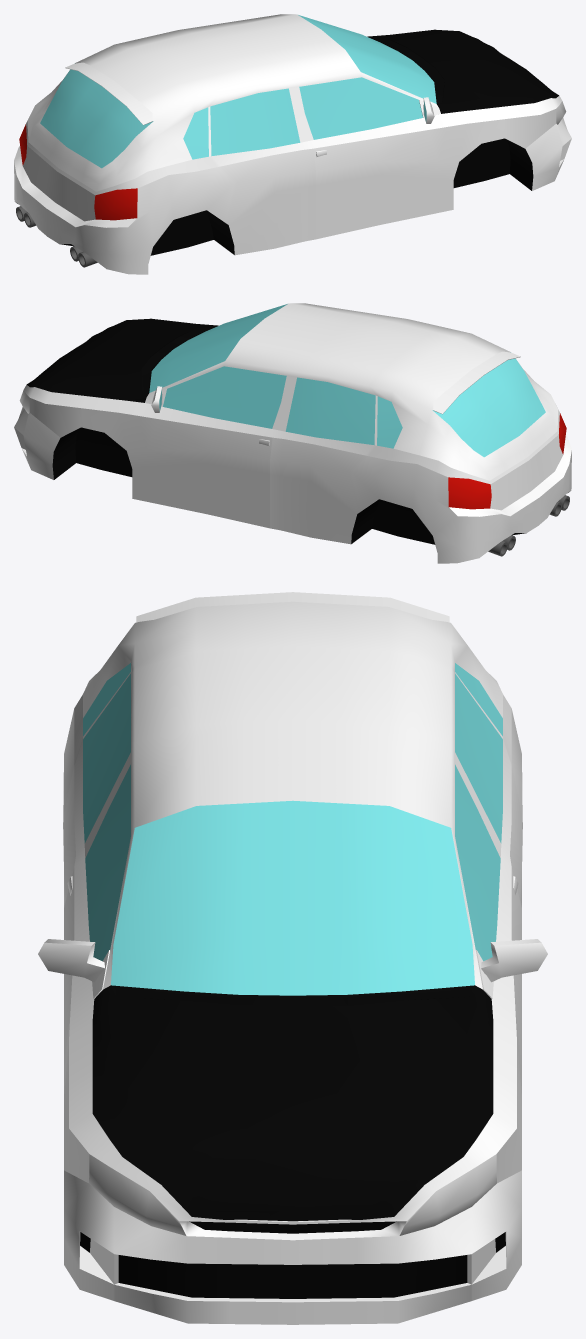
File: Gc14_Body_1.fbx
3 renders of one model, top to bottom at view 1: azimuth 30°, elevation 25°; view 2: azimuth 150°, elevation 25°; view 3: azimuth 270°, elevation 25°, orthographic. The views are drawn at different scales.
Parts seen in each view (by area): view 1: Cube; view 2: Cube; view 3: Cube.
Part boxes in pixels (bbox=[...]): Cube: bbox=[14, 14, 571, 274]; Cube: bbox=[14, 303, 571, 563]; Cube: bbox=[38, 592, 547, 1324].
Size of the model in its own units: 327 by 105 by 147.
